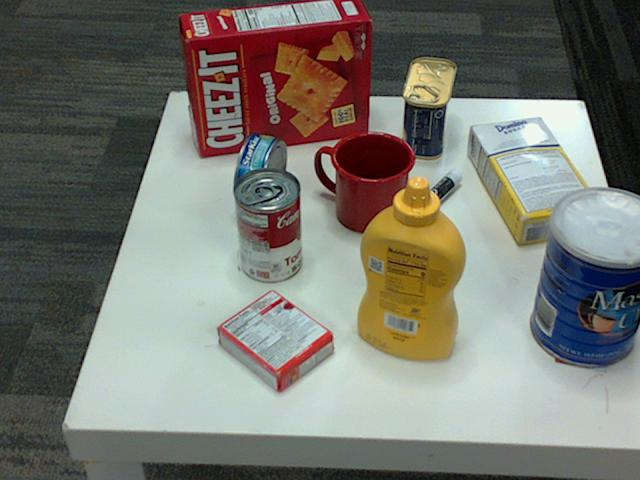cracker_box: (180, 0, 369, 154)
gelatin_box: (213, 289, 329, 393)
large_marker: (396, 173, 462, 234)
master_chef_can: (532, 188, 639, 368)
mug: (315, 129, 415, 232)
mustard_bottle: (357, 176, 466, 360)
potted_meat_can: (400, 59, 454, 160)
sugar_box: (468, 118, 602, 245)
tomato_soup_can: (233, 167, 301, 283)
tuna_fish_can: (232, 132, 286, 210)
